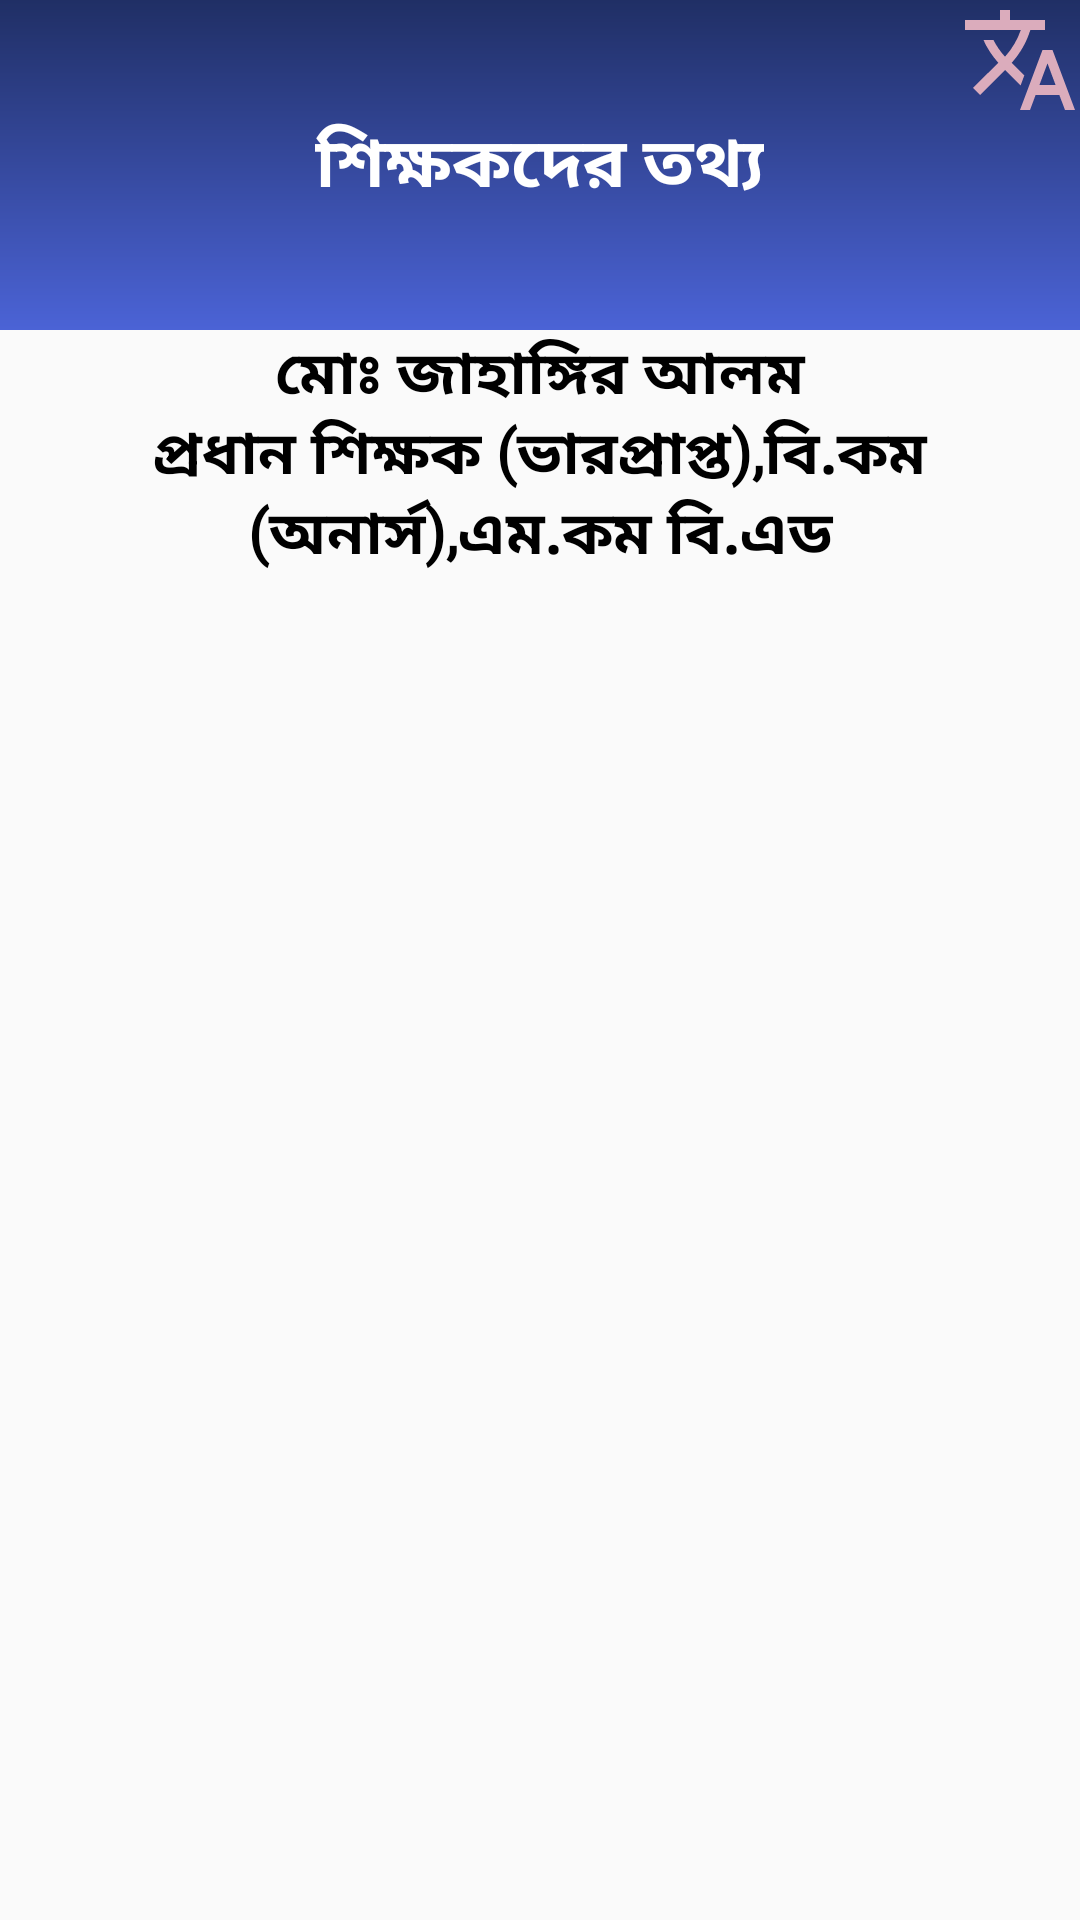

Screen size 1080 × 1920. Icon name, then its box in pixels as (x1=x1, y1=y1, x2=x2, y2=y2):
translate: (x1=960, y1=0, x2=1080, y2=110)
